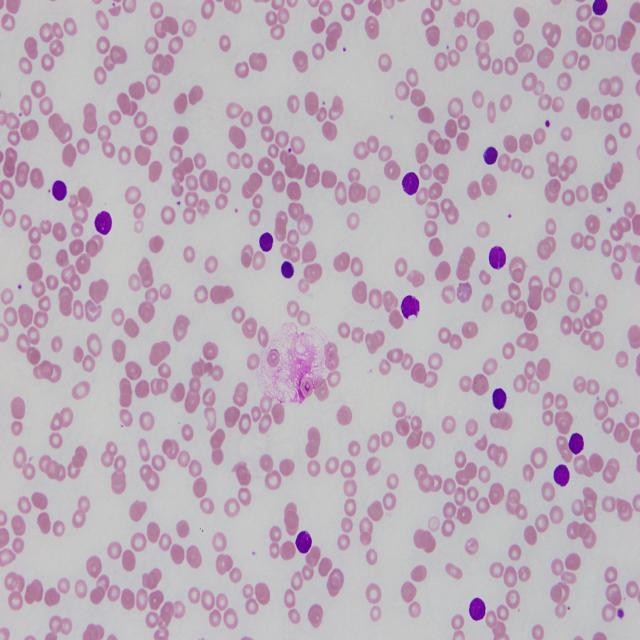cell: (401, 295, 420, 318), (95, 212, 112, 235), (402, 172, 419, 195), (489, 247, 506, 270), (295, 530, 312, 553), (51, 180, 68, 202), (469, 598, 486, 620), (554, 465, 570, 487), (569, 433, 584, 455), (492, 388, 506, 410), (484, 147, 498, 165), (259, 233, 272, 252), (592, 0, 608, 15), (281, 262, 294, 278)
